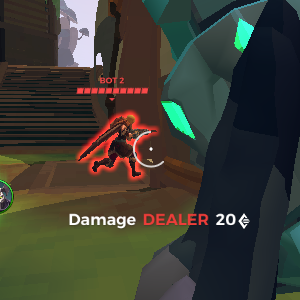model: (87, 108, 148, 188)
